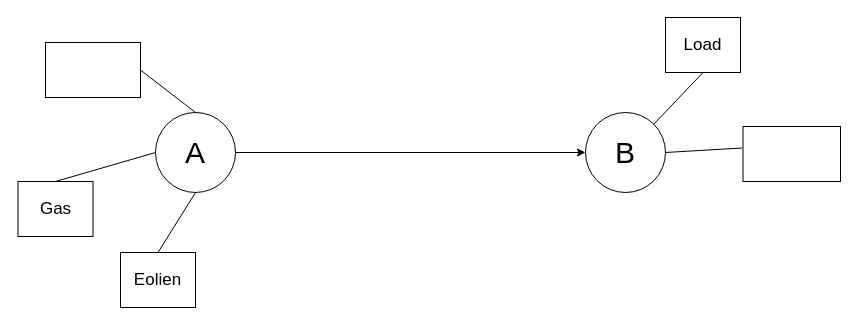
Image size: 858x325. Some labels were removed from this diagram. Here are the shapes that lost their labels. From the top down, the centre of each, then its label:
At pixel 92 70: "nuclear".
At pixel 791 154: "Stockage".
